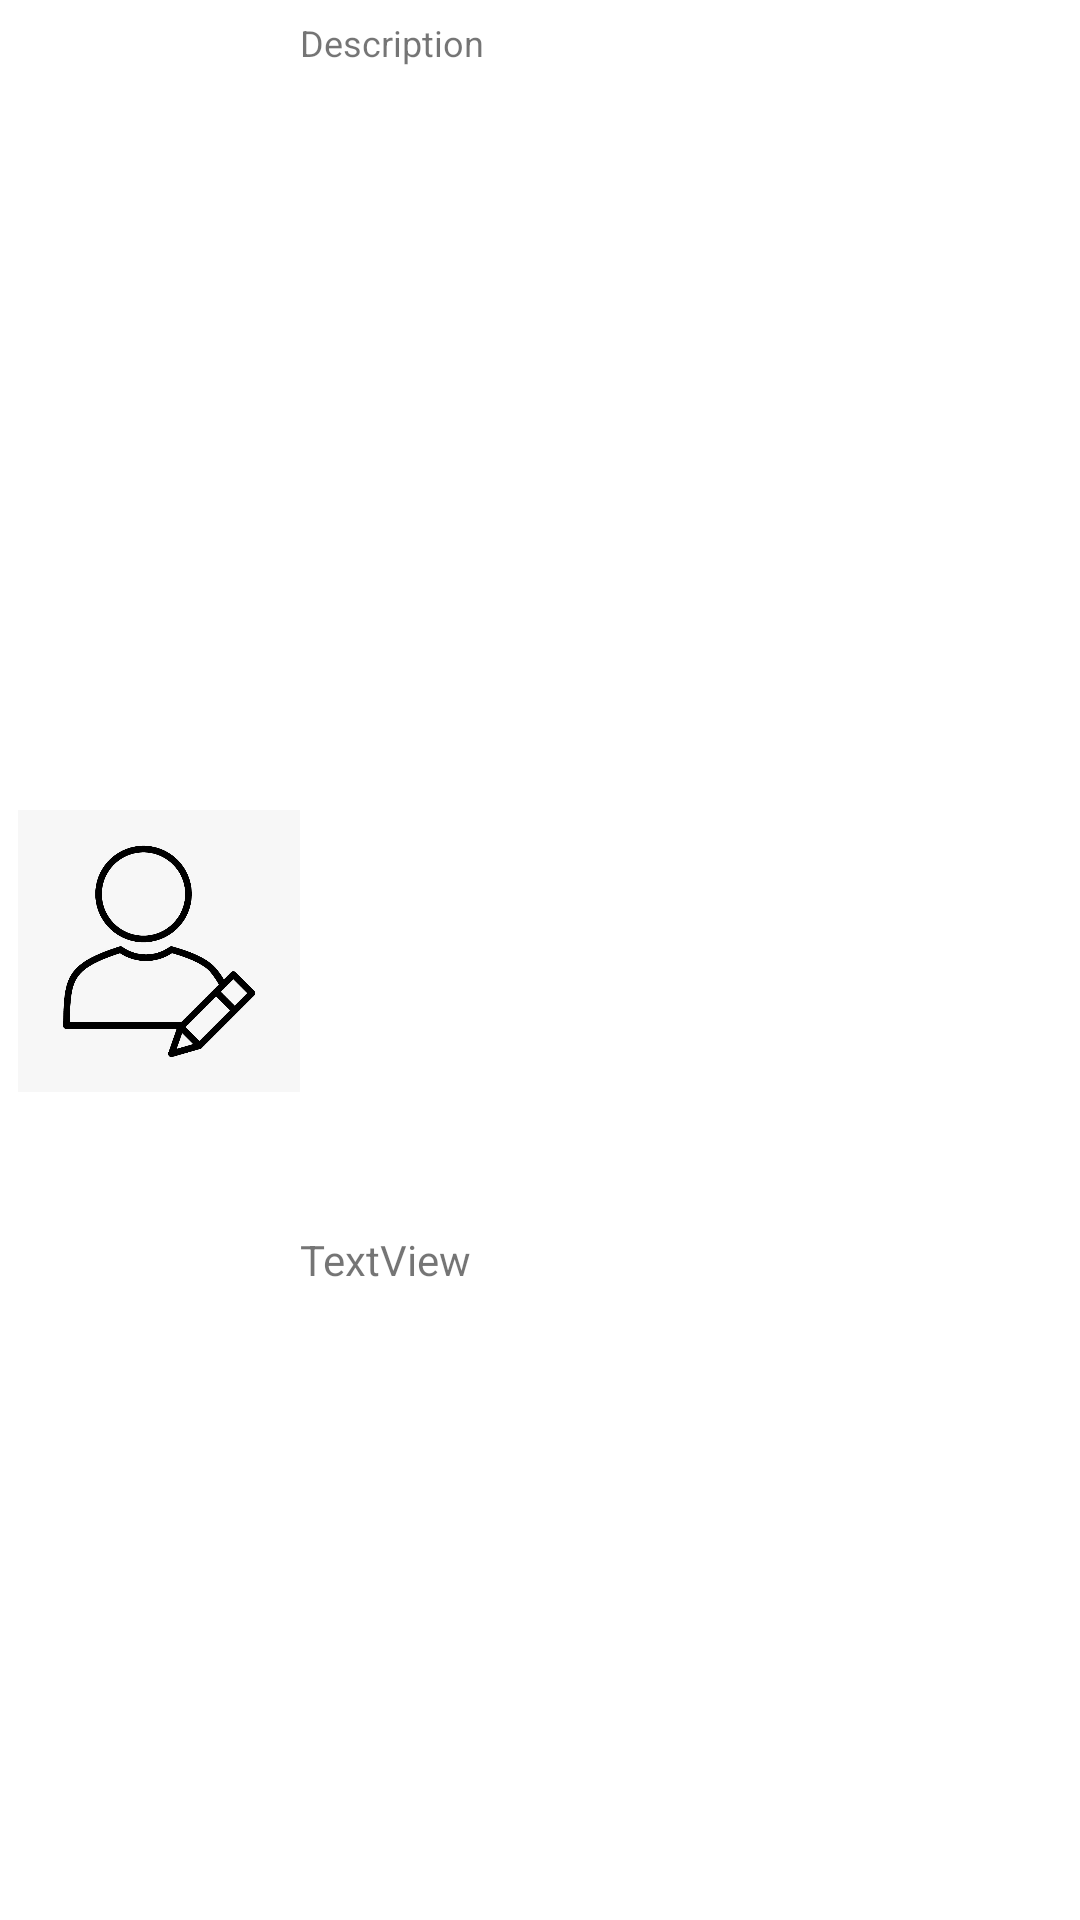

Screen size 1080x1920. Icon name, then its center in pixels as [x,y]:
profile: [159,951]
